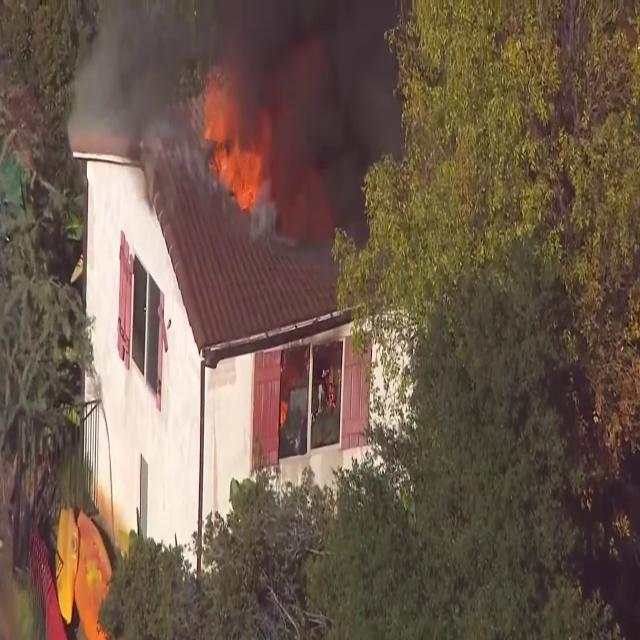Fire: (197, 62, 270, 215)
Smoke: (66, 0, 374, 276)
